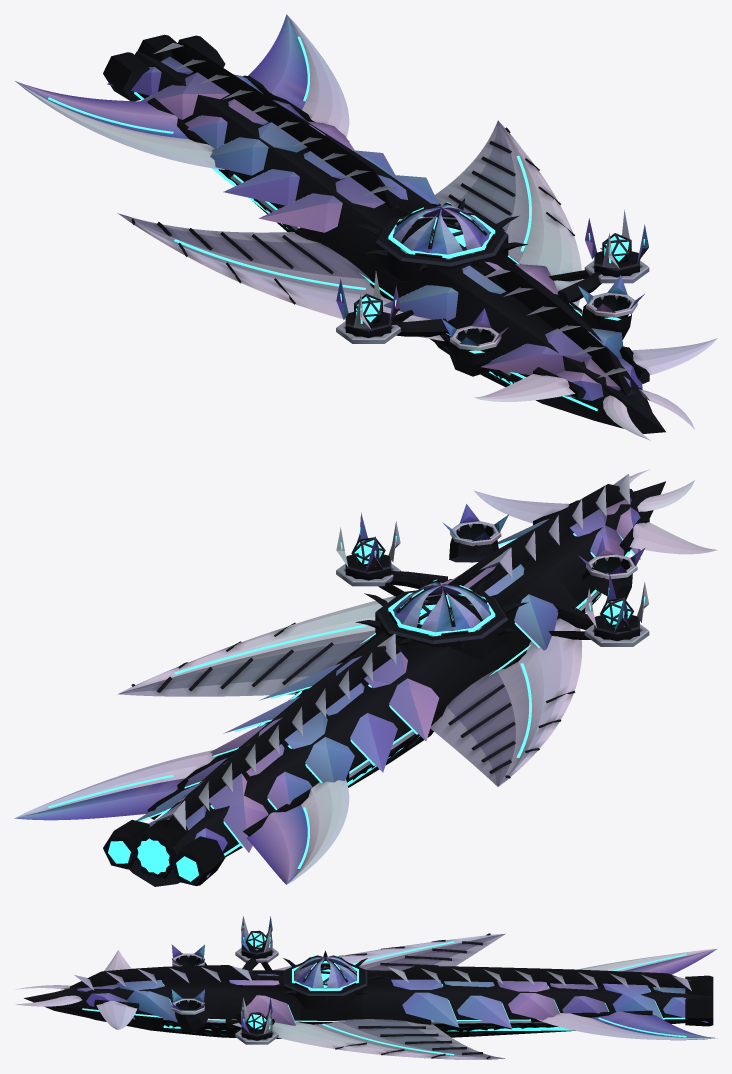
The model's file is the-veil.glb.
3 renders of one model, top to bottom at view 1: azimuth 30°, elevation 25°; view 2: azimuth 150°, elevation 25°; view 3: azimuth 270°, elevation 25°, orthographic. The views are drawn at different scales.
Parts seen in each view (by area): view 1: veil_hull, veil_pod_left, veil_pod_right, veil_heart_shutter_3, veil_heart_shutter_0; view 2: veil_hull, veil_pod_right, veil_pod_left, veil_heart_shutter_2, veil_heart_shutter_1; view 3: veil_hull, veil_pod_left, veil_pod_right, veil_heart_shutter_0, veil_heart_shutter_1.
Boxes of the visible parts, <box> form: veil_hull: <box>15,14,717,440</box>; veil_pod_left: <box>336,271,400,337</box>; veil_pod_right: <box>585,209,648,277</box>; veil_heart_shutter_3: <box>403,209,462,258</box>; veil_heart_shutter_0: <box>442,208,494,249</box>; veil_hull: <box>14,469,717,886</box>; veil_pod_right: <box>336,512,400,580</box>; veil_pod_left: <box>585,574,648,640</box>; veil_heart_shutter_2: <box>420,586,480,636</box>; veil_heart_shutter_1: <box>389,585,441,627</box>; veil_hull: <box>15,933,717,1059</box>; veil_pod_left: <box>241,916,272,958</box>; veil_pod_right: <box>241,997,272,1040</box>; veil_heart_shutter_0: <box>294,958,324,990</box>; veil_heart_shutter_1: <box>326,958,356,990</box>.
Size of the model in its own units: 9.5 by 2.63 by 22.6.
